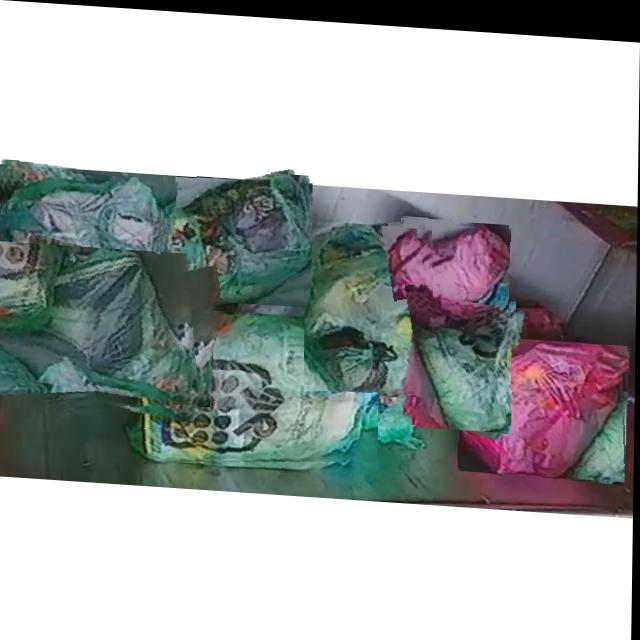general_trashbag: (131, 307, 381, 459), (0, 246, 197, 405), (306, 220, 437, 387), (156, 170, 312, 297), (0, 175, 161, 288), (418, 308, 509, 423)
other_trashbag: (461, 339, 625, 469), (400, 219, 511, 303)
